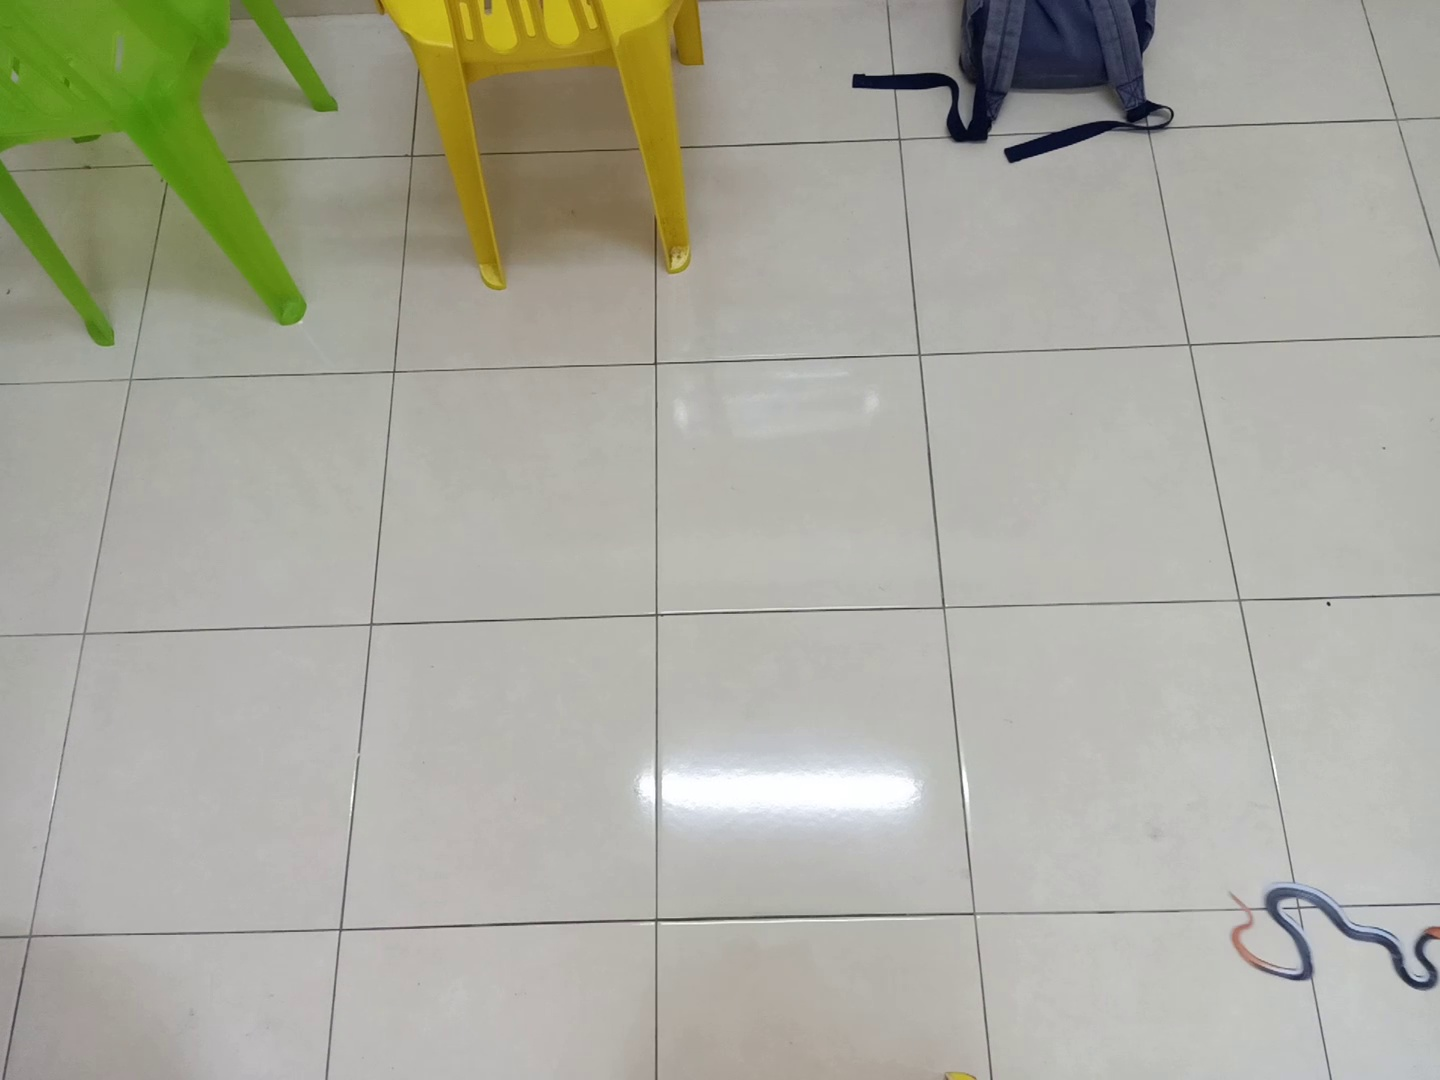snake: (1219, 866, 1440, 999)
